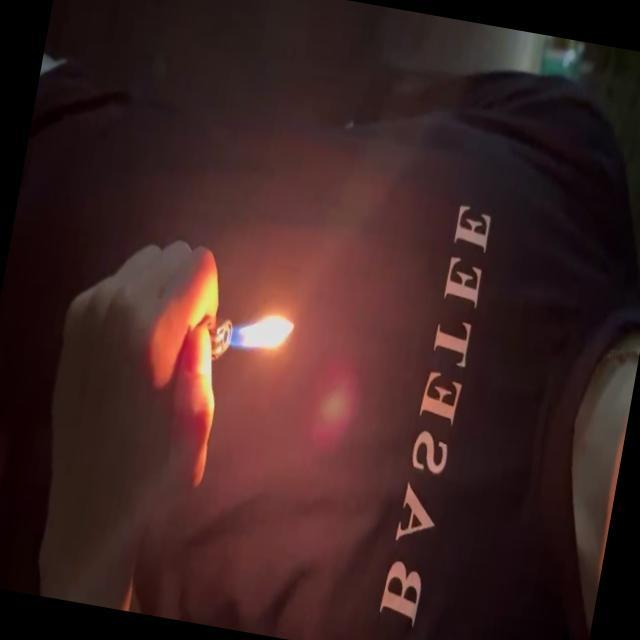Fire: (222, 300, 297, 359)
